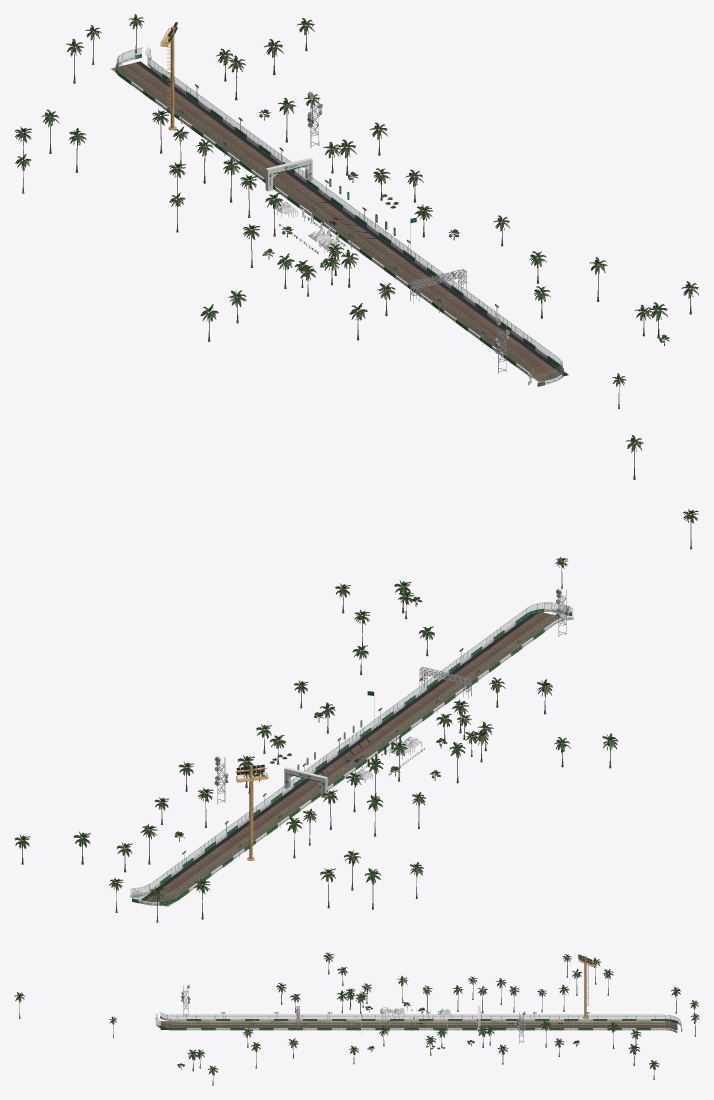
Rendered from RaceTrack.glb.
3 views of the same model, one above another, from view 1: azimuth 30°, elevation 25°; view 2: azimuth 150°, elevation 25°; view 3: azimuth 270°, elevation 25° (orthographic). The views are drawn at different scales.
Visible parts, largest first — view 1: Track.007, Track, Track.004, Track.003, Track.005, Track.006, Track.001, StadiumLights; view 2: Track.003, Track.005, Track.004, Track, Track.007, Track.006, Track.001, StadiumLights; view 3: Track.005, Track.006, Track.004, Track.003, Track, Track.007, Track.001, StadiumLights.
Boxes of the visible parts, box(x1,y1,x2,y2) form: Track.007: box(175, 106, 262, 157); Track: box(297, 196, 384, 246); Track.004: box(420, 285, 506, 336); Track.003: box(358, 240, 446, 291); Track.005: box(481, 331, 568, 382); Track.006: box(110, 61, 201, 112); Track.001: box(236, 151, 323, 202); StadiumLights: box(160, 22, 177, 130); Track.003: box(366, 693, 446, 740); Track.005: box(479, 612, 563, 657); Track.004: box(423, 652, 503, 699); Track: box(313, 734, 390, 781); Track.007: box(197, 817, 277, 864); Track.006: box(141, 859, 221, 906); Track.001: box(253, 779, 334, 823); StadiumLights: box(235, 764, 268, 860); Track.005: box(160, 1021, 234, 1029); Track.006: box(603, 1021, 677, 1029); Track.004: box(234, 1021, 308, 1027); Track.003: box(308, 1021, 381, 1027); Track: box(382, 1021, 455, 1027); Track.007: box(529, 1021, 603, 1027); Track.001: box(456, 1021, 529, 1027); StadiumLights: box(577, 954, 596, 1018).
Bounding box in the file's own units: 267 × 72.69 × 651.
17 materials, 14 textured.
